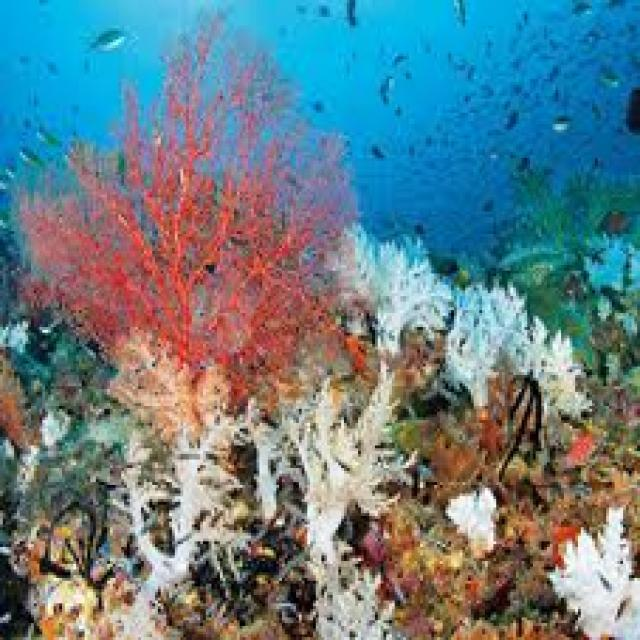Bleached: (289, 365, 407, 638), (117, 432, 235, 638), (446, 286, 590, 418), (334, 224, 449, 356), (551, 508, 638, 638), (449, 492, 497, 556), (1, 215, 24, 320)
Healthy: (21, 12, 353, 387)
